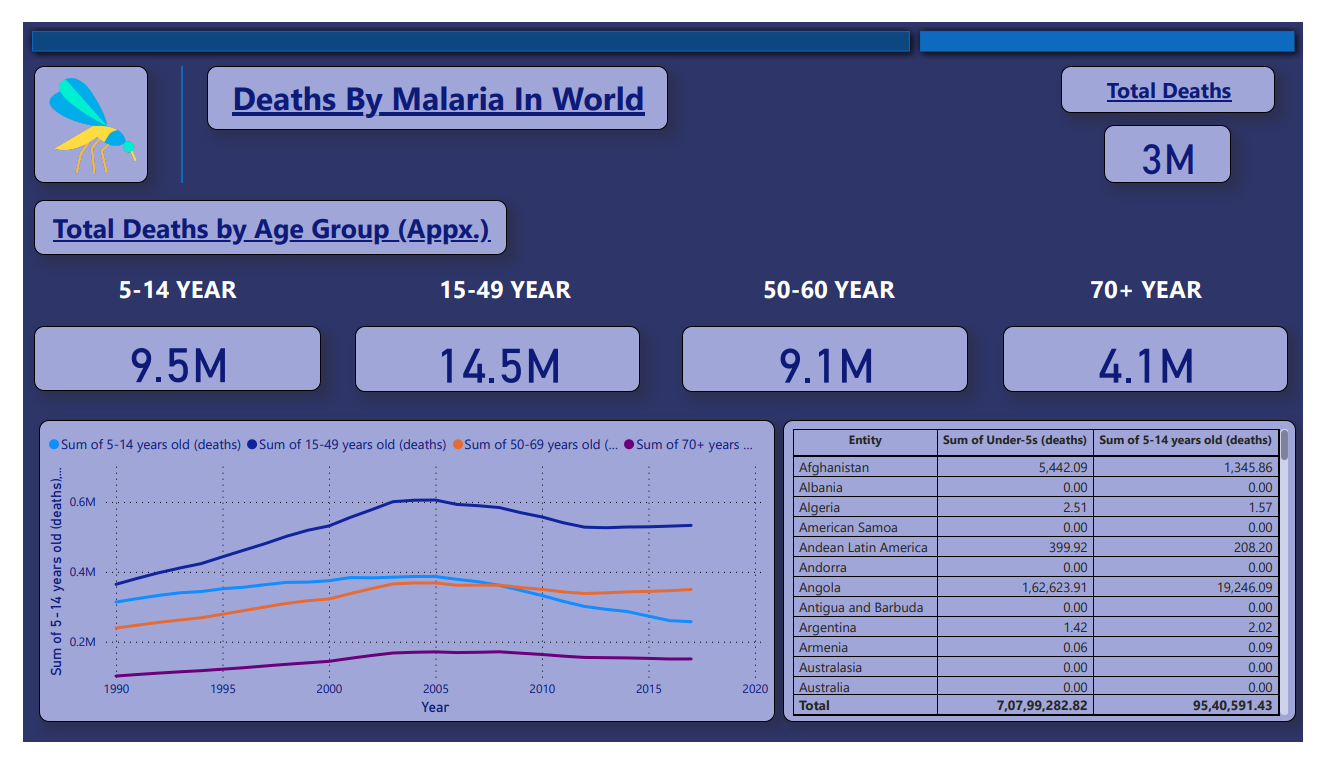

The dashboard page shown, as its layout file describes it:
{"tool":"powerbi","page":{"name":"Page 2","canvas":[1280,720],"ordinal":1},"visuals":[{"type":"shape","box":[0,0,894.7,38.1],"z":0},{"type":"shape","box":[889.4,0,391,38.1],"z":1000},{"type":"image","box":[11.4,43.9,113.3,116.8],"z":2000},{"type":"shape","box":[134.3,43.9,49.2,116.8],"z":3000},{"type":"textbox","box":[183.5,43.9,461.9,64.1],"z":4000},{"type":"textbox","box":[1037.9,43.9,214.2,47.4],"z":5000},{"type":"card","fields":{"Values":["Sum(global-malaria-deaths-by-world-region. (deaths))"]},"box":[1080.9,102.7,127.3,58],"z":6000},{"type":"textbox","box":[11.4,178.2,472.4,54.4],"z":7000},{"type":"textbox","box":[80.8,245,147.5,52.7],"z":8000},{"type":"textbox","box":[728.8,245,154.5,52.7],"z":9000},{"type":"textbox","box":[1049.3,245,147.5,52.7],"z":10000},{"type":"textbox","box":[401.3,245,161.6,52.7],"z":11000},{"type":"card","fields":{"Values":["Sum(malaria-deaths-by-age.5-14 years old (deaths))"]},"box":[11.4,303.8,286.2,65],"z":12000},{"type":"card","fields":{"Values":["Sum(malaria-deaths-by-age.15-49 years old (deaths))"]},"box":[331.9,303.8,285.4,65.9],"z":13000},{"type":"card","fields":{"Values":["Sum(malaria-deaths-by-age.50-69 years old (deaths))"]},"box":[659.4,303.8,285.4,65.9],"z":14000},{"type":"card","fields":{"Values":["Sum(malaria-deaths-by-age.70+ years old (deaths))"]},"box":[979.9,303.8,285.4,65.9],"z":15000},{"type":"lineChart","fields":{"Category":["malaria-deaths-by-age.Year"],"Y":["Sum(malaria-deaths-by-age.5-14 years old (deaths))","Sum(malaria-deaths-by-age.15-49 years old (deaths))","Sum(malaria-deaths-by-age.50-69 years old (deaths))","Sum(malaria-deaths-by-age.70+ years old (deaths))"]},"box":[15.8,397.8,736,302],"z":16000},{"type":"tableEx","fields":{"Values":["malaria-deaths-by-age.Entity","Sum(malaria-deaths-by-age.Under-5s (deaths))","Sum(malaria-deaths-by-age.5-14 years old (deaths))"]},"box":[759.5,397.8,513.7,302],"z":17000}]}

Visuals, with their boxes in screenshot pixels (x1, y1, x2, y2), scaled from the page's 1280x720 canvas onto the 1324x762 screenshot:
shape: BBox(0, 0, 925, 40)
shape: BBox(920, 0, 1323, 40)
image: BBox(12, 46, 129, 170)
shape: BBox(139, 46, 190, 170)
textbox: BBox(190, 46, 668, 114)
textbox: BBox(1074, 46, 1295, 97)
card - Sum(global-malaria-deaths-by-world-region. (deaths)): BBox(1118, 109, 1250, 170)
textbox: BBox(12, 189, 500, 246)
textbox: BBox(84, 259, 236, 315)
textbox: BBox(754, 259, 914, 315)
textbox: BBox(1085, 259, 1238, 315)
textbox: BBox(415, 259, 582, 315)
card - Sum(malaria-deaths-by-age.5-14 years old (deaths)): BBox(12, 322, 308, 390)
card - Sum(malaria-deaths-by-age.15-49 years old (deaths)): BBox(343, 322, 639, 391)
card - Sum(malaria-deaths-by-age.50-69 years old (deaths)): BBox(682, 322, 977, 391)
card - Sum(malaria-deaths-by-age.70+ years old (deaths)): BBox(1014, 322, 1309, 391)
lineChart - malaria-deaths-by-age.Year x Sum(malaria-deaths-by-age.5-14 years old (deaths)): BBox(16, 421, 778, 741)
tableEx - malaria-deaths-by-age.Entity x Sum(malaria-deaths-by-age.Under-5s (deaths)): BBox(786, 421, 1317, 741)
